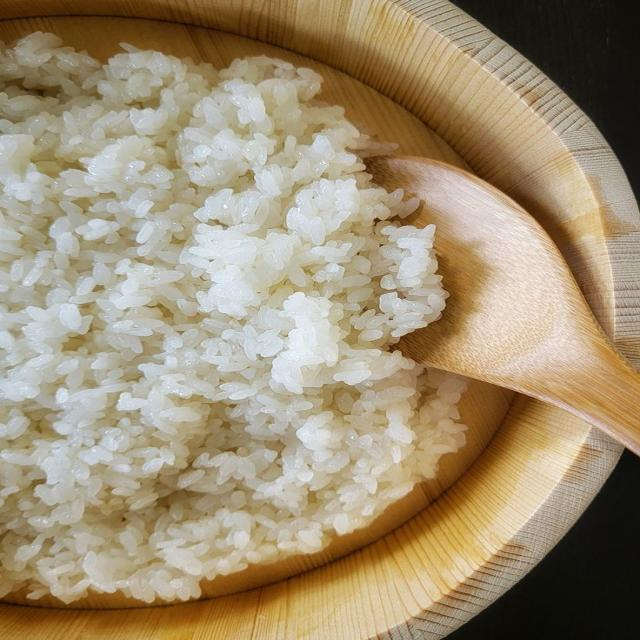rice: (0, 34, 464, 602)
